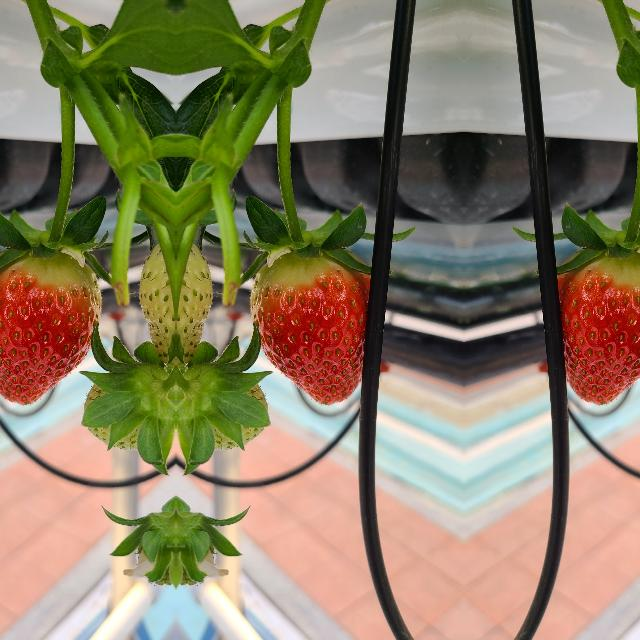Health_100: (246, 248, 370, 406), (0, 248, 103, 406), (556, 248, 640, 406)
